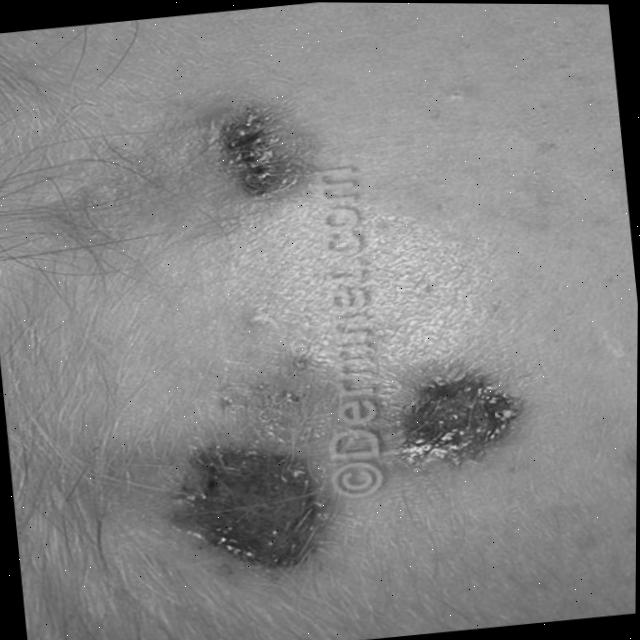Eczema: (189, 442, 317, 575), (401, 373, 515, 463), (213, 109, 292, 205)
